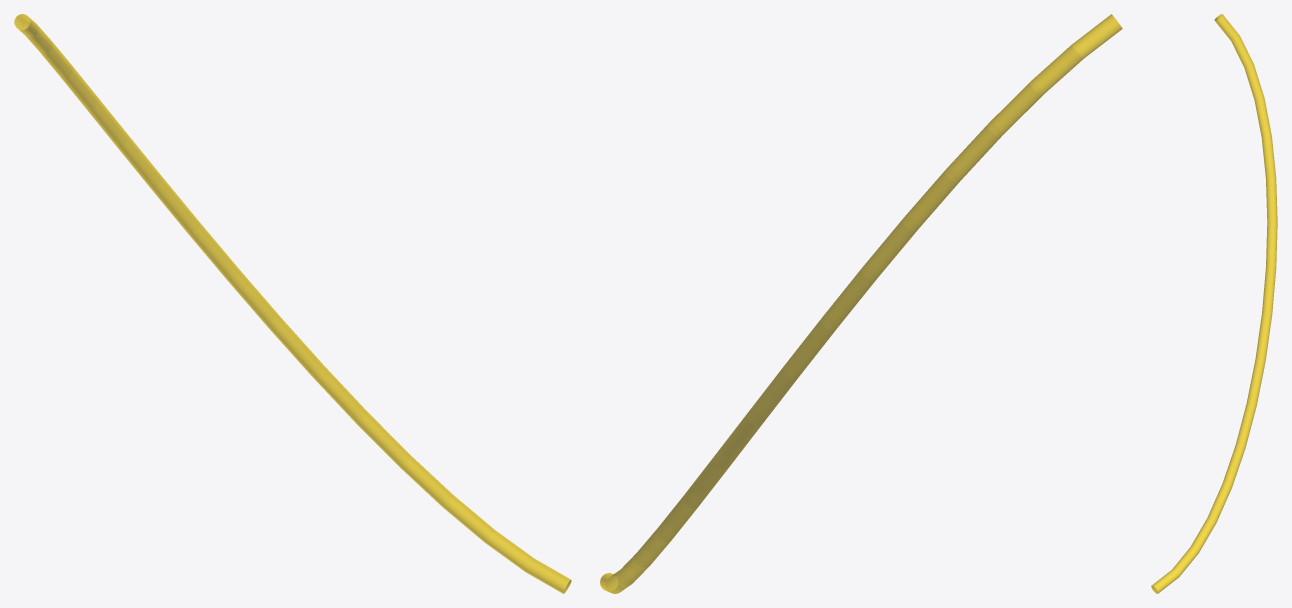
Rendered from Event_419990632_track_40.fbx.
3 views of the same model, side by side, from view 1: azimuth 30°, elevation 25°; view 2: azimuth 150°, elevation 25°; view 3: azimuth 270°, elevation 25° (orthographic). The views are drawn at different scales.
Parts seen in each view (by area): view 1: Model; view 2: Model; view 3: Model.
Boxes of the visible parts, bbox=[...] form: Model: bbox=[14, 14, 571, 593]; Model: bbox=[600, 14, 1122, 593]; Model: bbox=[1151, 14, 1277, 593].
Size of the model in its own units: 1.43 by 1.79 by 0.4823.
